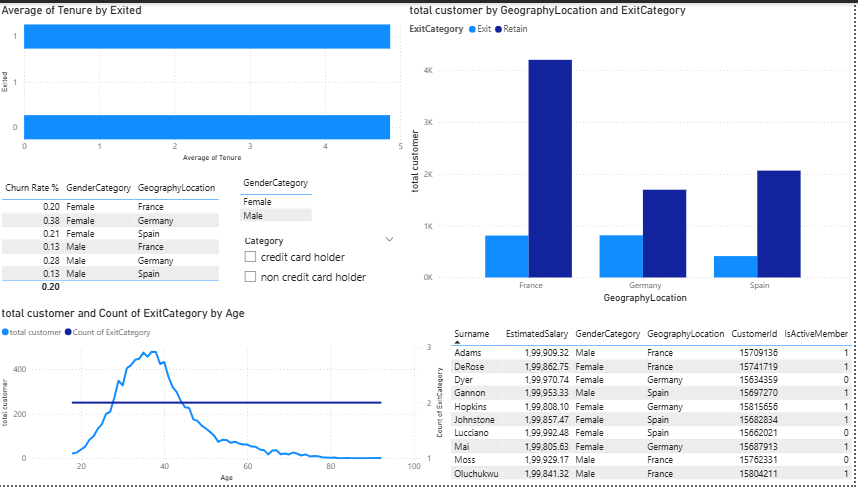

The dashboard page shown, as its layout file describes it:
{"tool":"powerbi","page":{"name":"churn_factor_analysis","canvas":[1280,720],"ordinal":2},"visuals":[{"type":"tableEx","fields":{"Values":["Bank_Churn.Churn Rate %","gender.GenderCategory","geography.GeographyLocation"]},"box":[0,261.7,355,178.3],"z":0},{"type":"clusteredColumnChart","fields":{"Category":["geography.GeographyLocation"],"Y":["Bank_Churn.total customer"],"Series":["exitcustomer.ExitCategory"]},"box":[610,0,670,453.3],"z":1000},{"type":"lineChart","fields":{"Category":["Bank_Churn.Age"],"Y2":["CountNonNull(exitcustomer.ExitCategory)"],"Y":["Bank_Churn.total customer"]},"box":[0,453.3,670,266.7],"z":2000},{"type":"clusteredBarChart","fields":{"Y":["Bank_Churn.Average Tenure Retained","Bank_Churn.Average Tenure Exited"]},"box":[0,0,610,241.7],"z":3000},{"type":"slicer","fields":{"Values":["creditcard.Category"]},"box":[355,341.7,248.3,86.7],"z":4000},{"type":"tableEx","fields":{"Values":["gender.GenderCategory"]},"box":[355,253.3,171.7,96.7],"z":5000},{"type":"tableEx","fields":{"Values":["CustomerInfo.Surname","Bank_Churn.EstimatedSalary","gender.GenderCategory","geography.GeographyLocation","Bank_Churn.CustomerId","Bank_Churn.IsActiveMember"]},"box":[670,480,610,240],"z":6000}]}

Visuals, with their boxes in screenshot pixels (x1, y1, x2, y2), scaled from the page's 1280x720 canvas onto the 858x487 screenshot:
tableEx - Bank_Churn.Churn Rate % x gender.GenderCategory: 0, 177, 238, 298
clusteredColumnChart - geography.GeographyLocation x Bank_Churn.total customer: 409, 0, 857, 307
lineChart - Bank_Churn.Age x CountNonNull(exitcustomer.ExitCategory): 0, 307, 449, 486
clusteredBarChart - Bank_Churn.Average Tenure Retained x Bank_Churn.Average Tenure Exited: 0, 0, 409, 163
slicer - creditcard.Category: 238, 231, 404, 290
tableEx - gender.GenderCategory: 238, 171, 353, 237
tableEx - CustomerInfo.Surname x Bank_Churn.EstimatedSalary: 449, 325, 857, 486
